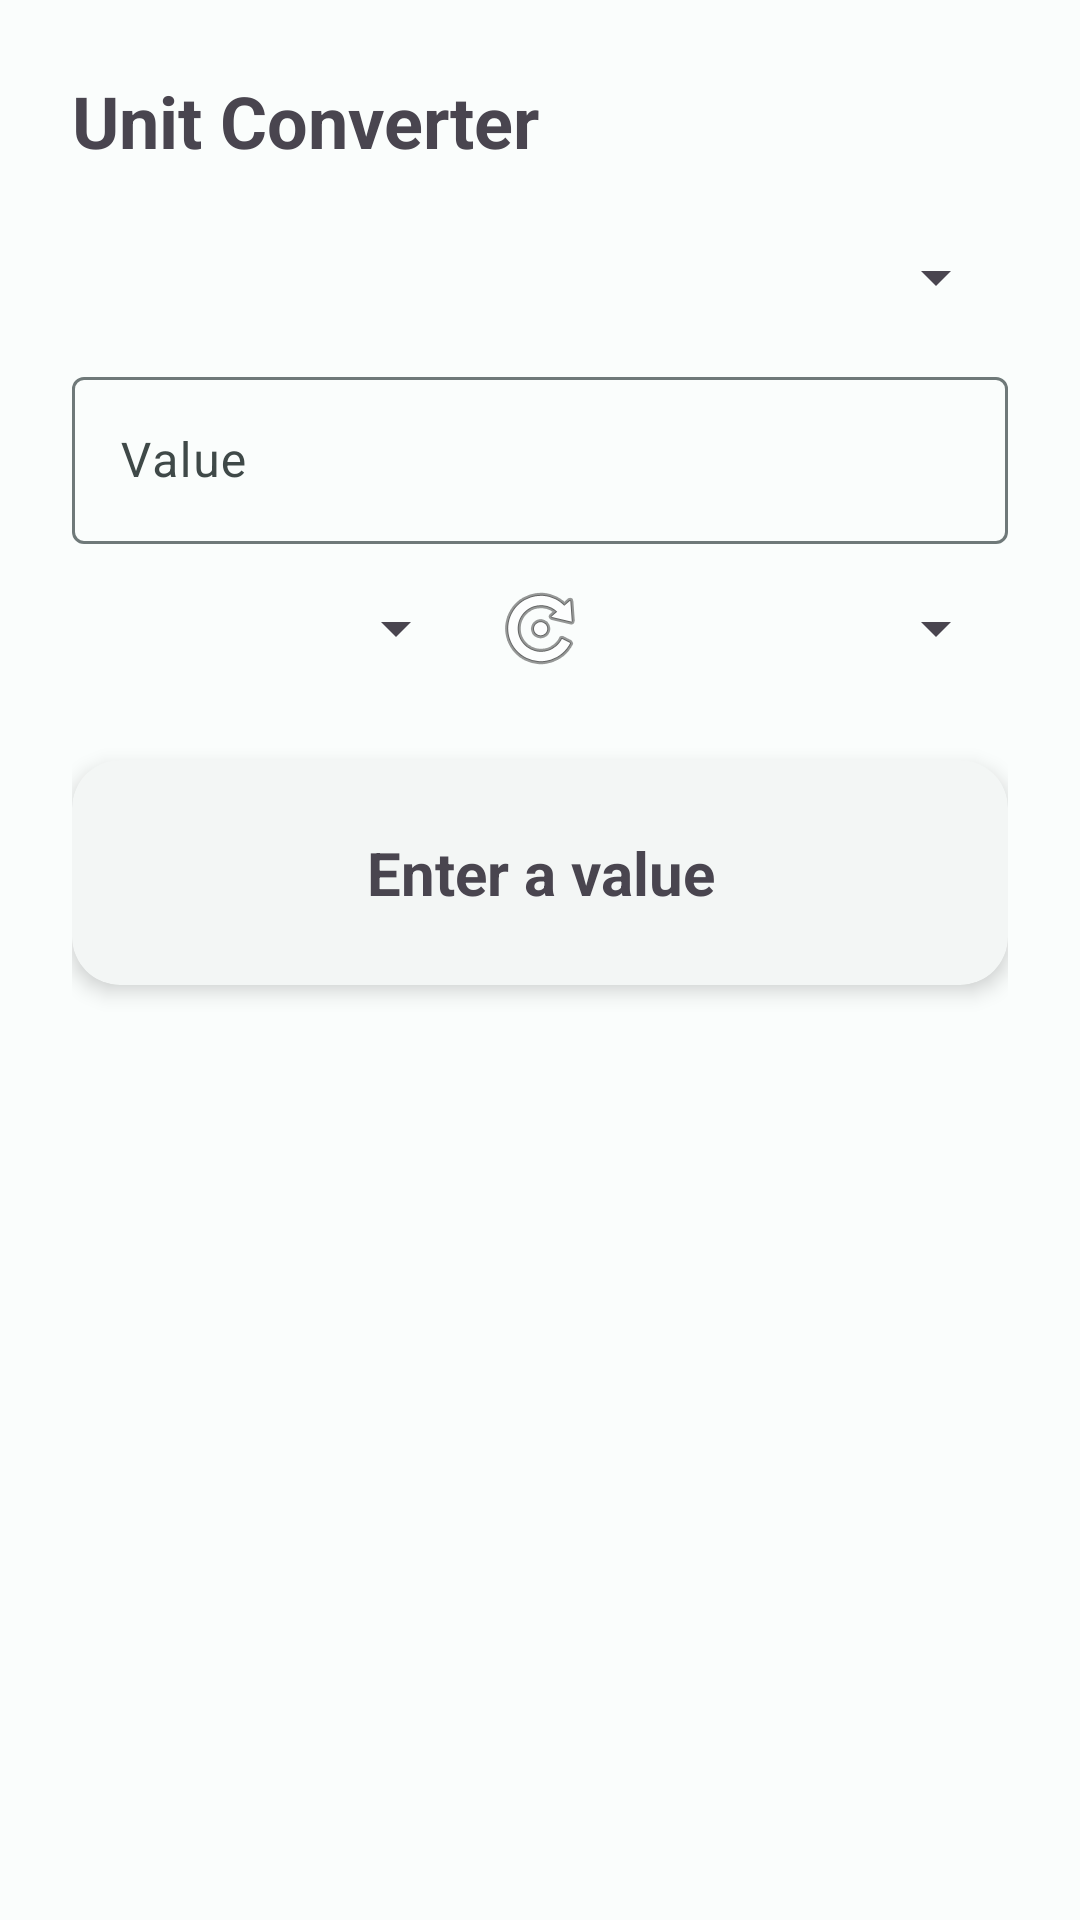

Where icons sit on this 1080x1920 app screen, as (x1, y1, x2, y2):
Swap units: (505, 593, 575, 664)
